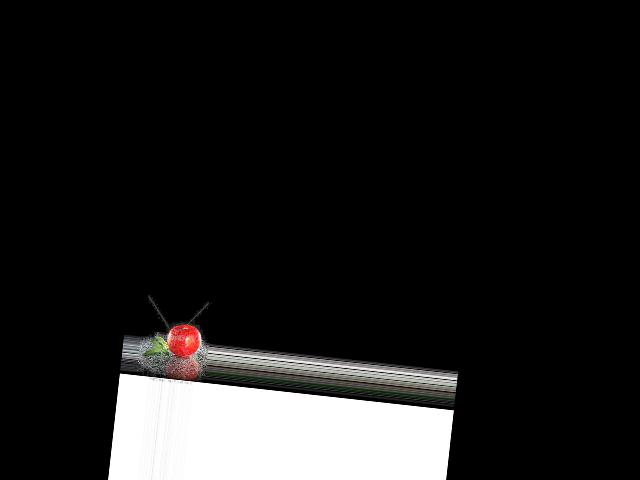tomato: (165, 322, 202, 358)
